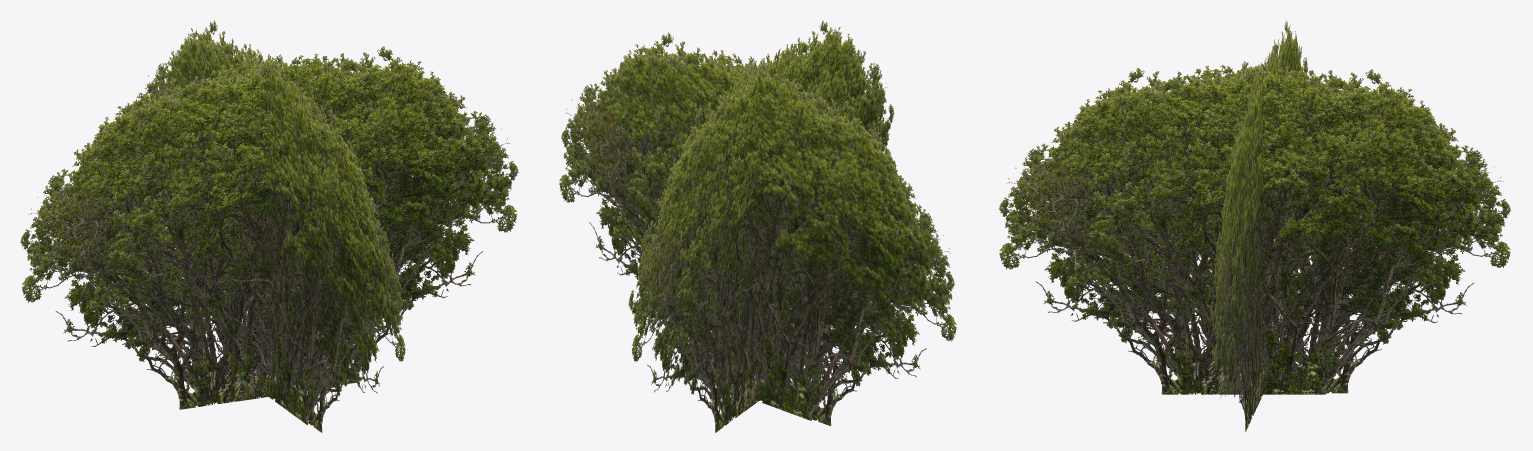
The model's file is SM_Bush_Leaves_04.fbx.
3 renders of one model, left to right at view 1: azimuth 30°, elevation 25°; view 2: azimuth 150°, elevation 25°; view 3: azimuth 270°, elevation 25°, orthographic. The views are drawn at different scales.
Visible parts, largest first — view 1: SM_Bush_Leaves_04; view 2: SM_Bush_Leaves_04; view 3: SM_Bush_Leaves_04.
Boxes of the visible parts, box(x1,y1,x2,y2) form: SM_Bush_Leaves_04: box(20, 20, 518, 432); SM_Bush_Leaves_04: box(559, 20, 956, 432); SM_Bush_Leaves_04: box(998, 21, 1510, 432).
Bounding box in the file's own units: 490 × 356 × 498.
